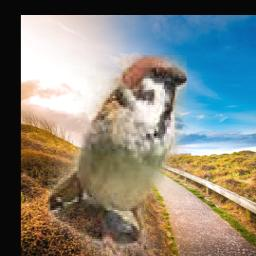Sparrow: (48, 56, 187, 256)
